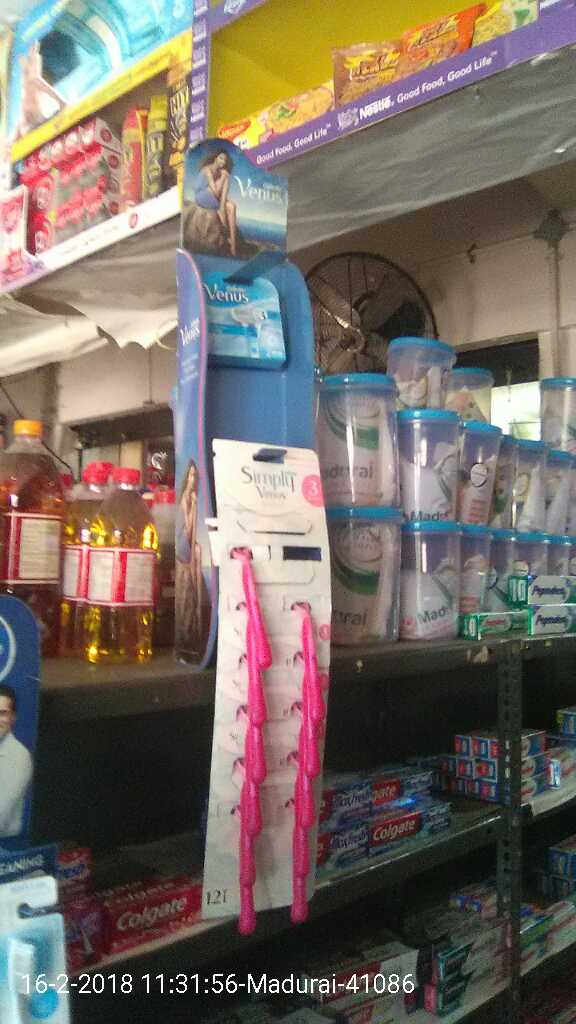venus: (207, 264, 289, 373)
